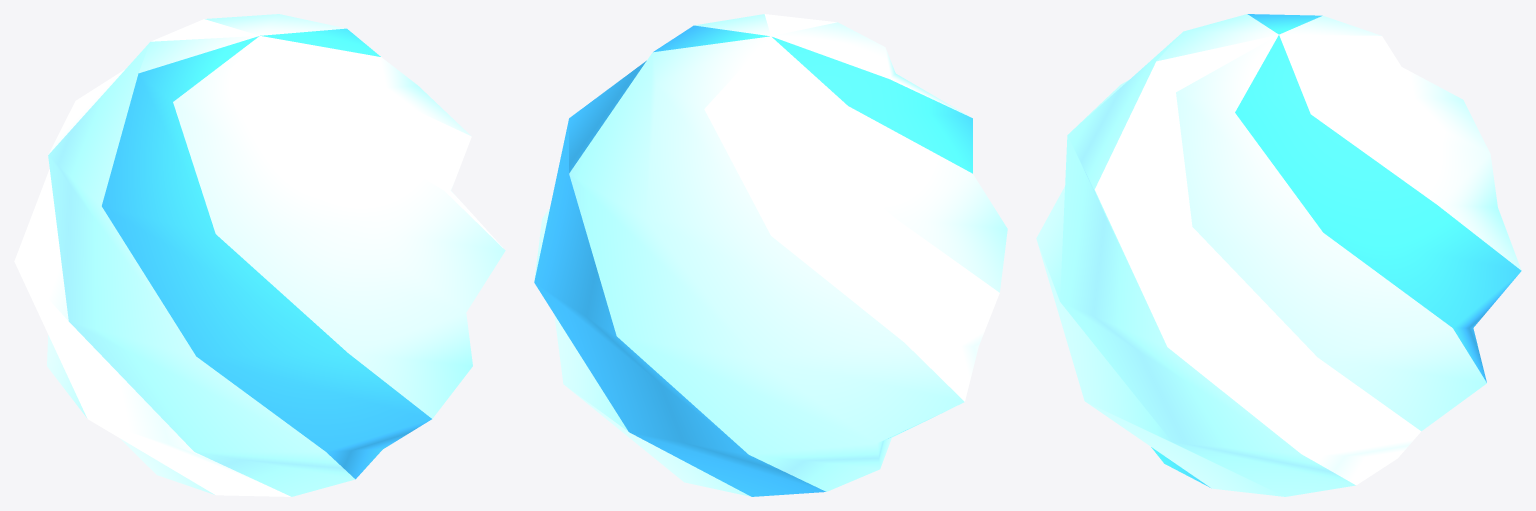
Rendered from glow-marble.glb.
The picture shows the model from 3 angles, left to right: view 1: azimuth 30°, elevation 25°; view 2: azimuth 150°, elevation 25°; view 3: azimuth 270°, elevation 25°; orthographic projection.
Visible parts, largest first — view 1: glow-marble; view 2: glow-marble; view 3: glow-marble.
Part boxes in pixels (box(x1,y1,x2,y2)): glow-marble: box(14, 14, 505, 496); glow-marble: box(534, 14, 1007, 496); glow-marble: box(1036, 14, 1521, 496).
Bounding box in the file's own units: 0.3 × 0.3 × 0.3.
